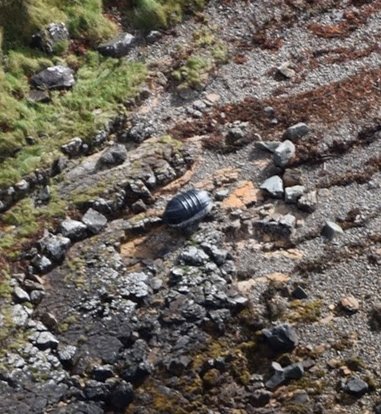white_in_green: (143, 168, 232, 246)
